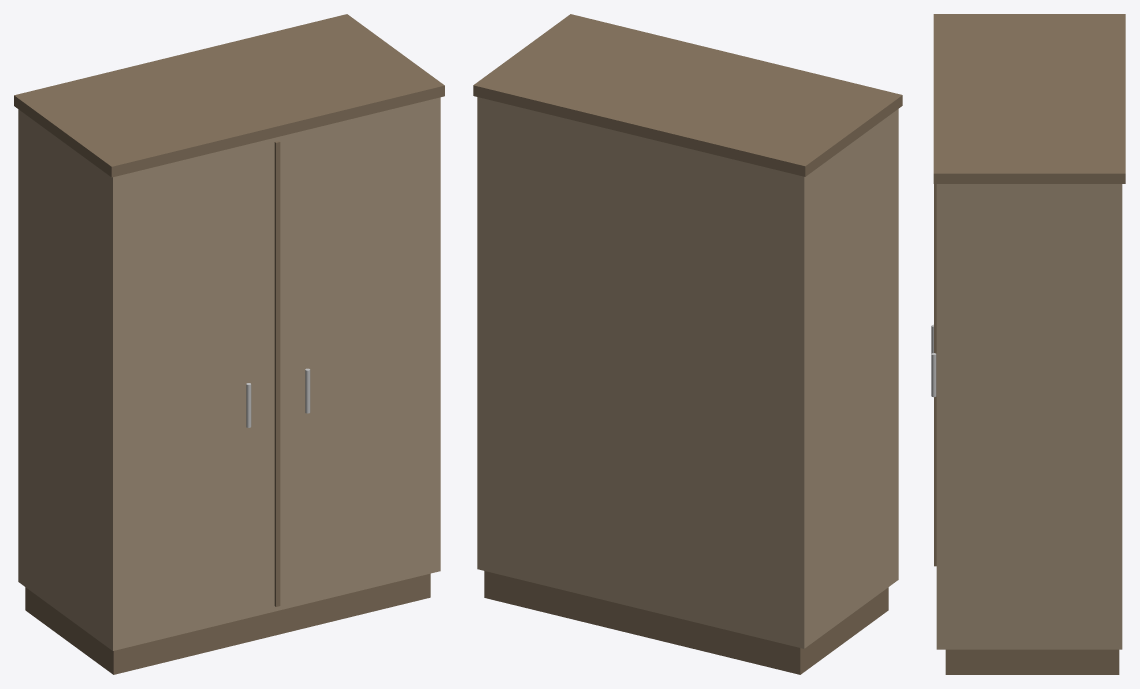
Rendered from wardrobe.glb.
The picture shows the model from 3 angles, left to right: view 1: azimuth 30°, elevation 25°; view 2: azimuth 150°, elevation 25°; view 3: azimuth 270°, elevation 25°; orthographic projection.
Visible parts, largest first — view 1: body, cornice, plinth, seam; view 2: body, cornice, plinth; view 3: body, cornice, plinth, seam.
Part boxes in pixels (x1,y1,x2,y2): body: (18,97,440,650); cornice: (14,14,444,177); plinth: (25,573,430,674); seam: (274,141,280,606); body: (477,97,898,648); cornice: (473,14,902,176); plinth: (484,571,888,674); body: (936,184,1122,649); cornice: (933,14,1125,183); plinth: (945,649,1119,674); seam: (934,184,936,566).
Bounding box in the file's own units: 1.24 × 1.83 × 0.6366.
